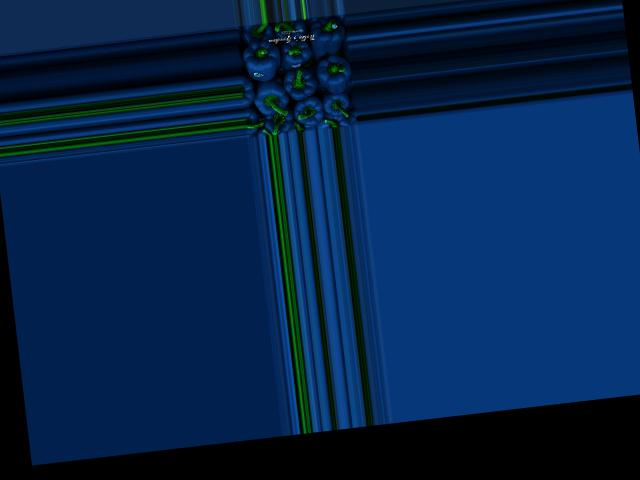bell_pepper: (237, 21, 277, 49)
